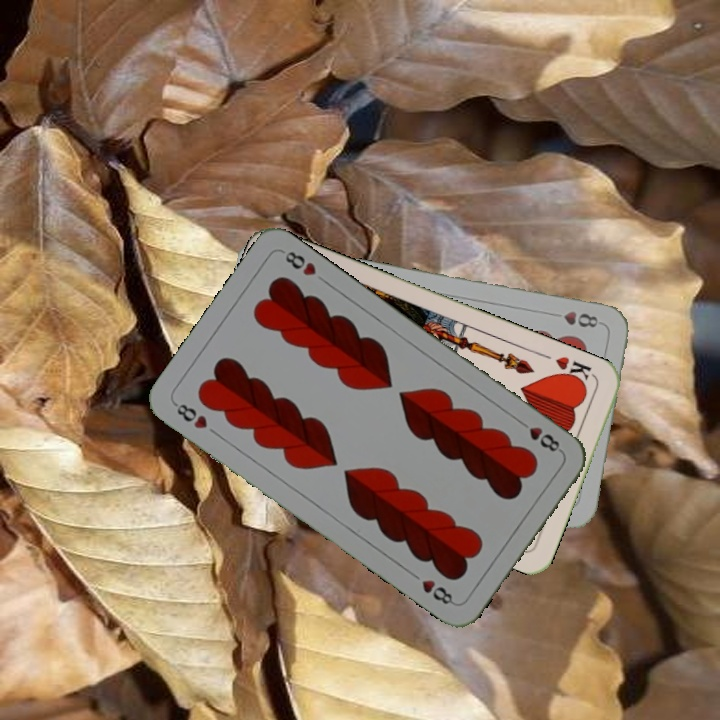H8: (514, 415, 565, 456), (169, 399, 210, 432), (546, 307, 601, 331)
HK: (551, 352, 594, 388)
